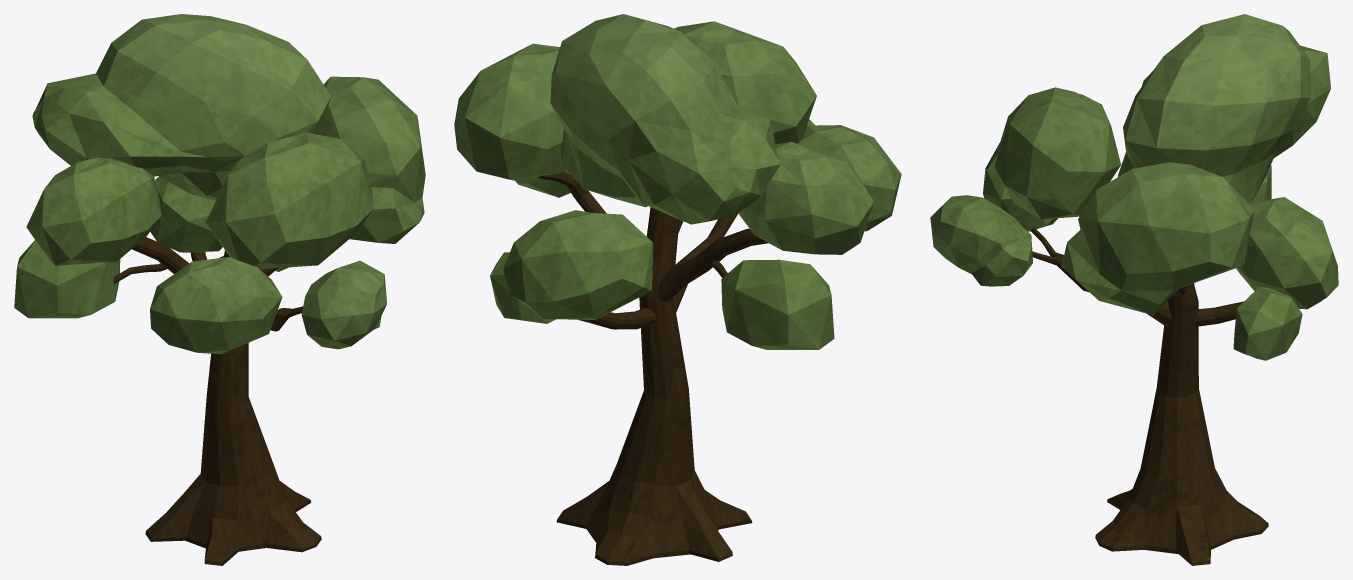
File: Tree_1 (1).fbx
3 views of the same model, side by side, from view 1: azimuth 30°, elevation 25°; view 2: azimuth 150°, elevation 25°; view 3: azimuth 270°, elevation 25° (orthographic). The views are drawn at different scales.
Parts seen in each view (by area): view 1: GeoSphere018, GeoSphere019, Cylinder021, GeoSphere015, GeoSphere017, GeoSphere020, GeoSphere016, GeoSphere021, GeoSphere023, Cylinder017; view 2: GeoSphere018, Cylinder021, GeoSphere023, GeoSphere017, GeoSphere015, GeoSphere016, GeoSphere019, GeoSphere020, Cylinder017, GeoSphere022, Cylinder023, Cylinder018 (+1 smaller); view 3: GeoSphere018, GeoSphere017, Cylinder021, GeoSphere019, GeoSphere023, GeoSphere021, GeoSphere022, GeoSphere020, Cylinder022, Cylinder023.
Boxes of the visible parts, x1=… form: GeoSphere018: x1=32, y1=14, x2=330, y2=200; GeoSphere019: x1=206, y1=132, x2=373, y2=269; Cylinder021: x1=145, y1=250, x2=321, y2=565; GeoSphere015: x1=26, y1=157, x2=161, y2=265; GeoSphere017: x1=319, y1=76, x2=425, y2=243; GeoSphere020: x1=150, y1=257, x2=282, y2=354; GeoSphere016: x1=14, y1=240, x2=120, y2=318; GeoSphere021: x1=301, y1=260, x2=386, y2=349; GeoSphere023: x1=150, y1=176, x2=222, y2=252; Cylinder017: x1=132, y1=237, x2=189, y2=273; GeoSphere018: x1=550, y1=14, x2=780, y2=224; Cylinder021: x1=556, y1=207, x2=752, y2=565; GeoSphere023: x1=503, y1=210, x2=653, y2=319; GeoSphere017: x1=454, y1=43, x2=570, y2=197; GeoSphere015: x1=738, y1=142, x2=873, y2=254; GeoSphere016: x1=721, y1=259, x2=834, y2=349; GeoSphere019: x1=674, y1=21, x2=816, y2=144; GeoSphere020: x1=797, y1=125, x2=901, y2=231; Cylinder017: x1=657, y1=228, x2=768, y2=301; GeoSphere022: x1=490, y1=252, x2=555, y2=323; Cylinder023: x1=585, y1=308, x2=655, y2=329; Cylinder018: x1=537, y1=171, x2=606, y2=213; GeoSphere018: x1=1118, y1=14, x2=1330, y2=203; GeoSphere017: x1=1061, y1=162, x2=1254, y2=315; Cylinder021: x1=1095, y1=283, x2=1268, y2=565; GeoSphere019: x1=995, y1=87, x2=1120, y2=219; GeoSphere023: x1=1236, y1=197, x2=1338, y2=309; GeoSphere021: x1=930, y1=195, x2=1032, y2=286; GeoSphere022: x1=1233, y1=287, x2=1302, y2=360; GeoSphere020: x1=983, y1=143, x2=1057, y2=231; Cylinder022: x1=1031, y1=228, x2=1172, y2=326; Cylinder023: x1=1194, y1=301, x2=1243, y2=326.
Size of the model in its own units: 825 by 1033 by 782.
